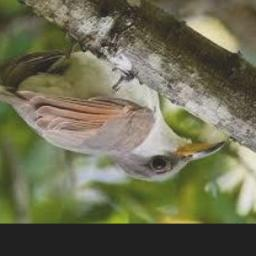Cuckoo: (0, 40, 226, 182)
